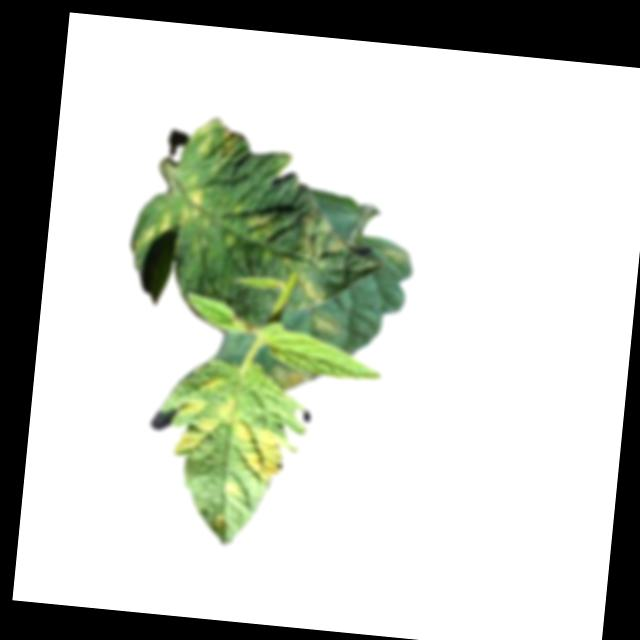Leaf_Mold: (169, 391, 236, 460), (231, 420, 288, 483), (189, 115, 243, 173), (295, 211, 354, 263), (265, 360, 319, 397), (173, 187, 208, 226), (242, 209, 278, 244), (294, 271, 329, 304), (306, 311, 344, 340), (381, 243, 413, 265), (221, 478, 242, 501), (202, 372, 225, 392), (155, 211, 172, 238)
